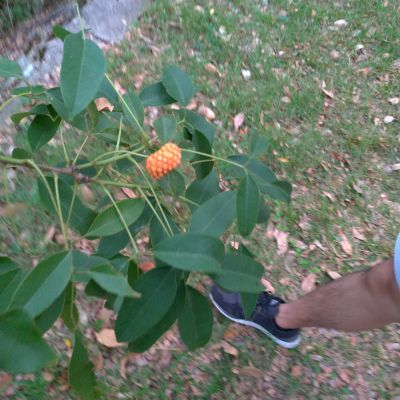eggs: (143, 139, 185, 178)
